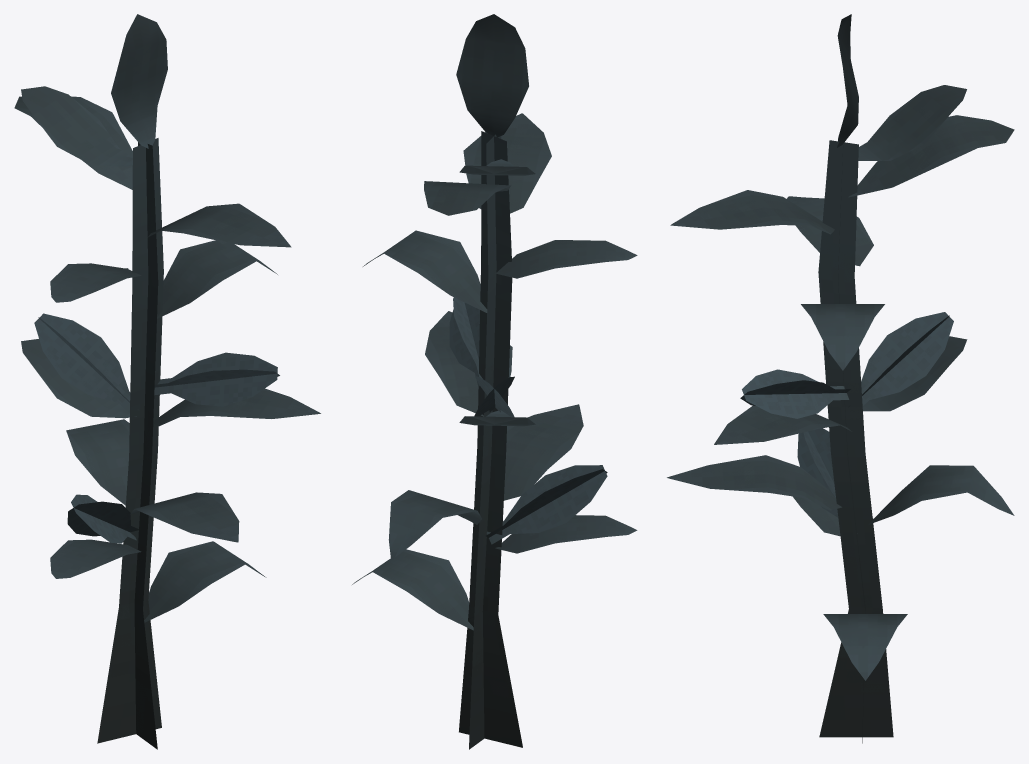
File: Corn_Prefab_2.fbx
The picture shows the model from 3 angles, left to right: view 1: azimuth 30°, elevation 25°; view 2: azimuth 150°, elevation 25°; view 3: azimuth 270°, elevation 25°; orthographic projection.
Visible parts, largest first — view 1: corn_prefab_2; view 2: corn_prefab_2; view 3: corn_prefab_2.
Part boxes in pixels (x1,y1,x2,y2): corn_prefab_2: [14, 14, 320, 749]; corn_prefab_2: [352, 14, 637, 749]; corn_prefab_2: [667, 14, 1014, 743].
Size of the model in its own units: 129 by 357 by 156.
Materials: 1 (1 with a texture image).
